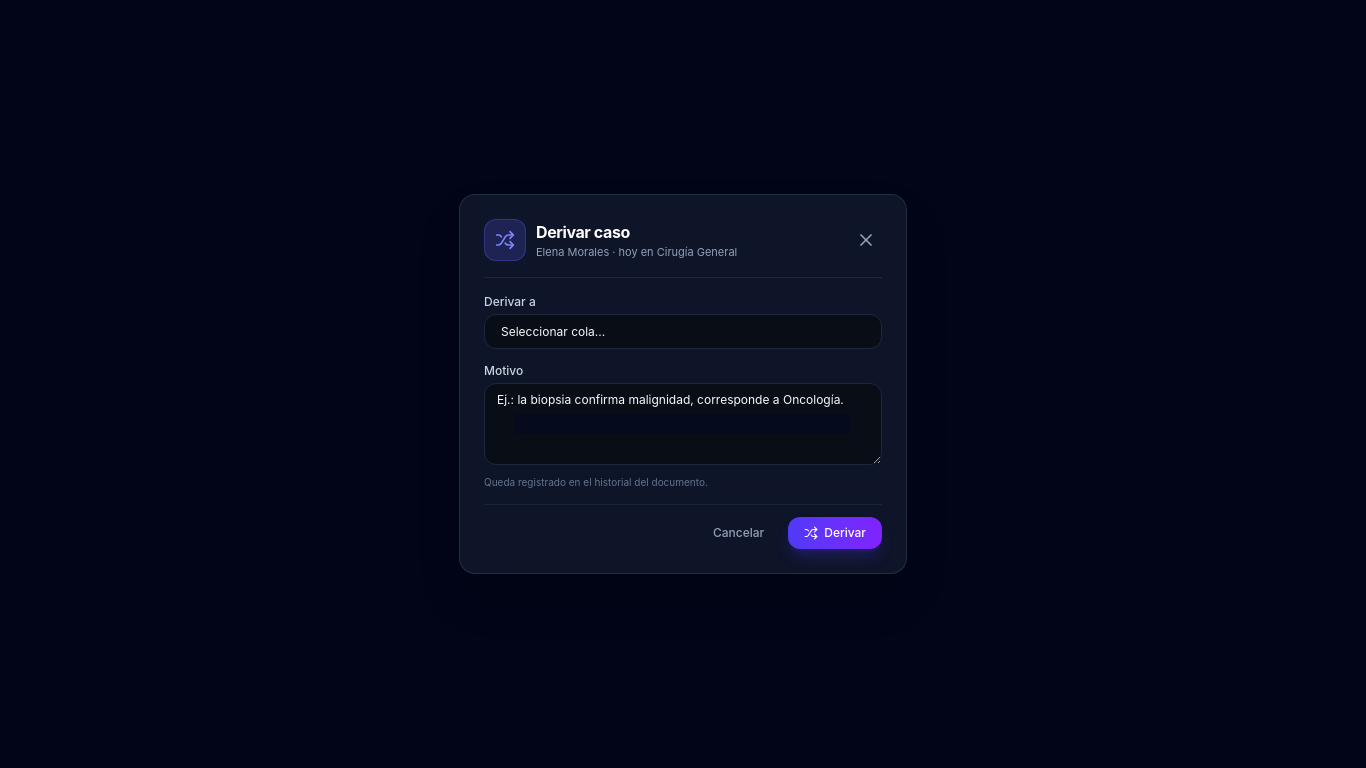
Test: DeriveCaseModal clinical derivation workflow › validates that destination queue is selected before deriving
Replace the text in the text box labelled "Motivo" with "Paciente requiere evaluación oncológica urgente" at (683, 424), box [484, 383, 882, 465]
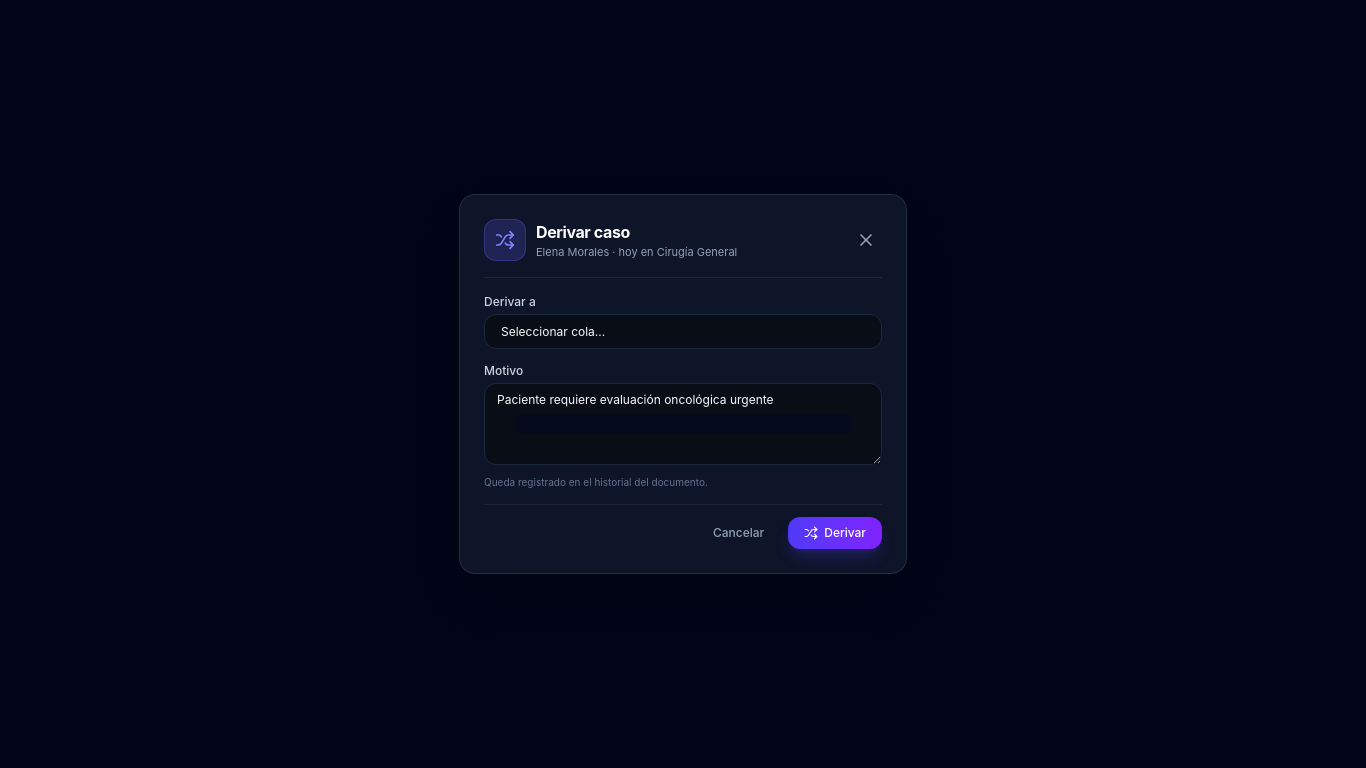
Submit the form "Derivar", box [484, 294, 882, 549]
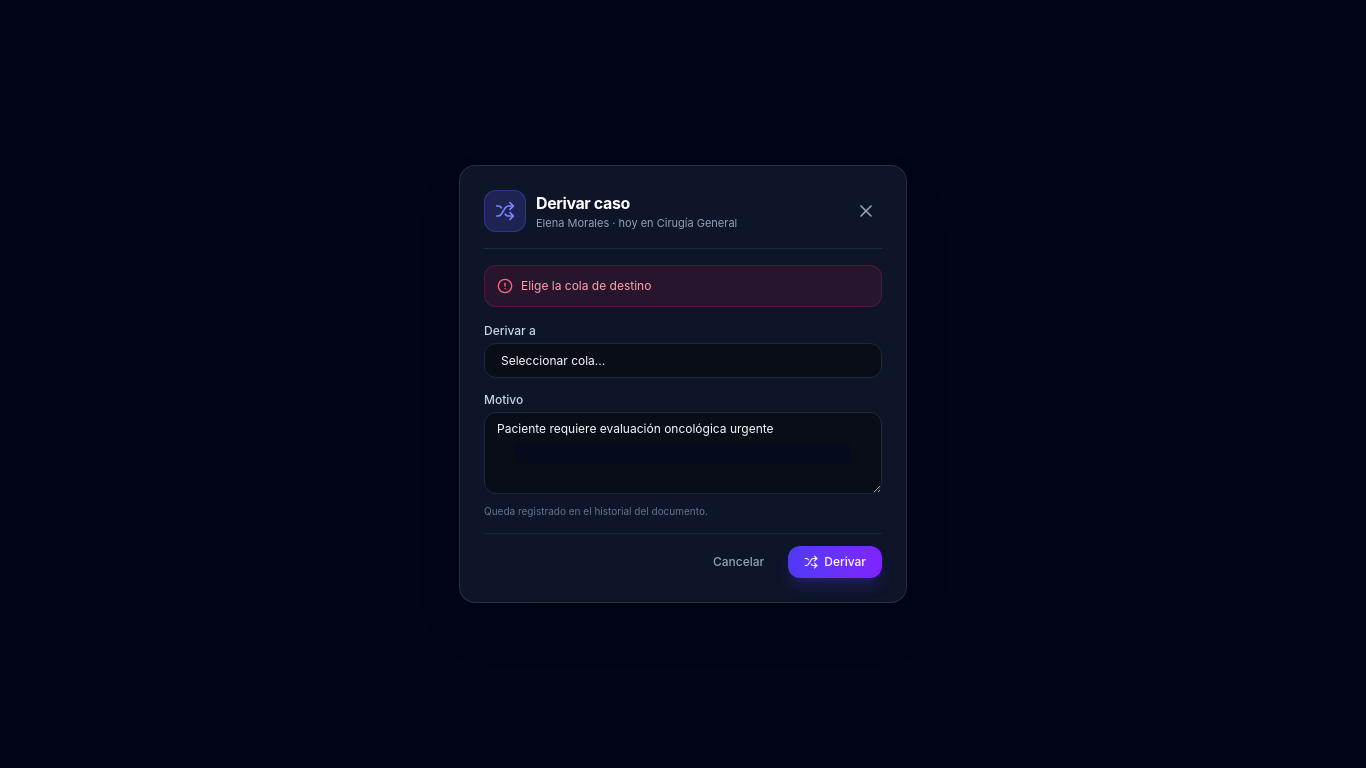
Expected: the text "Elige la cola de destino" is shown, [521, 278, 651, 294]
